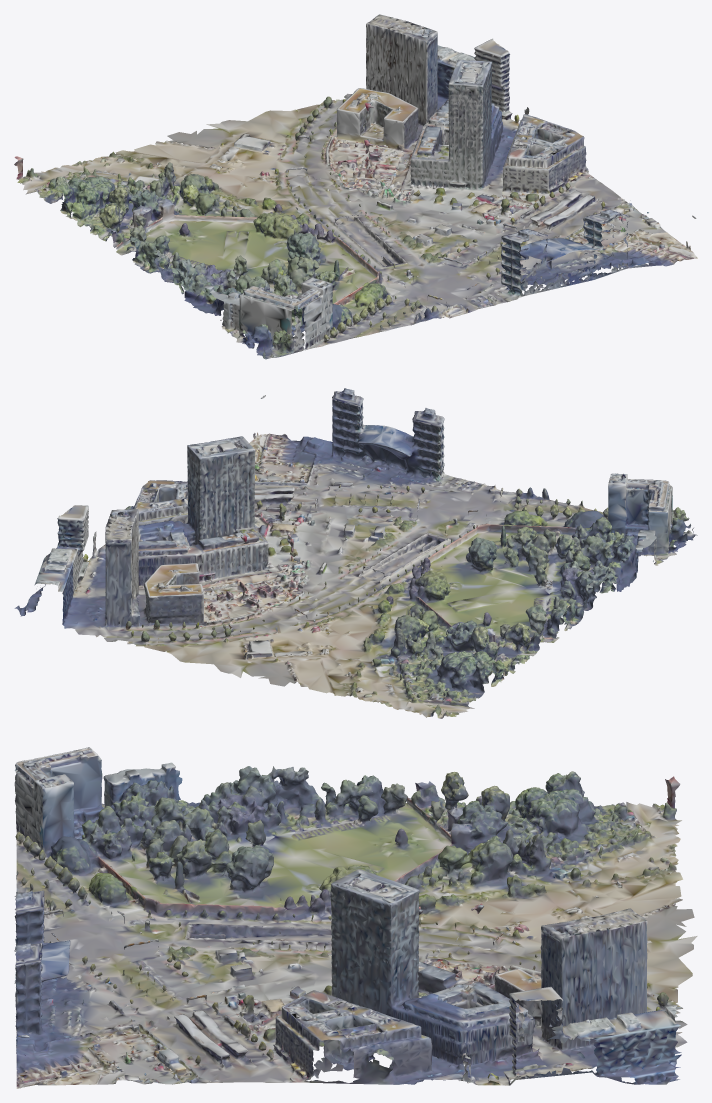
The model's file is surface-detail-3890_58207.glb.
The picture shows the model from 3 angles, top to bottom: view 1: azimuth 30°, elevation 25°; view 2: azimuth 150°, elevation 25°; view 3: azimuth 270°, elevation 25°; orthographic projection. The views are drawn at different scales.
Visible parts, largest first — view 1: world; view 2: world; view 3: world.
Boxes of the visible parts, left/top/right/bottom form: world: left=14, top=14, right=697, bottom=359; world: left=14, top=388, right=697, bottom=718; world: left=14, top=747, right=697, bottom=1088.
Bounding box in the file's own units: 369 × 91.11 × 374.
